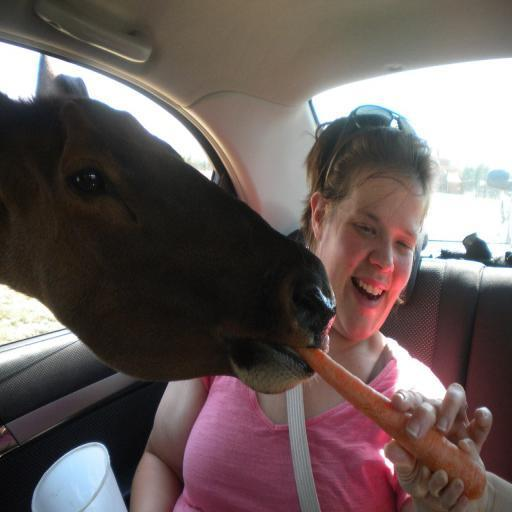horse: (0, 52, 336, 394)
